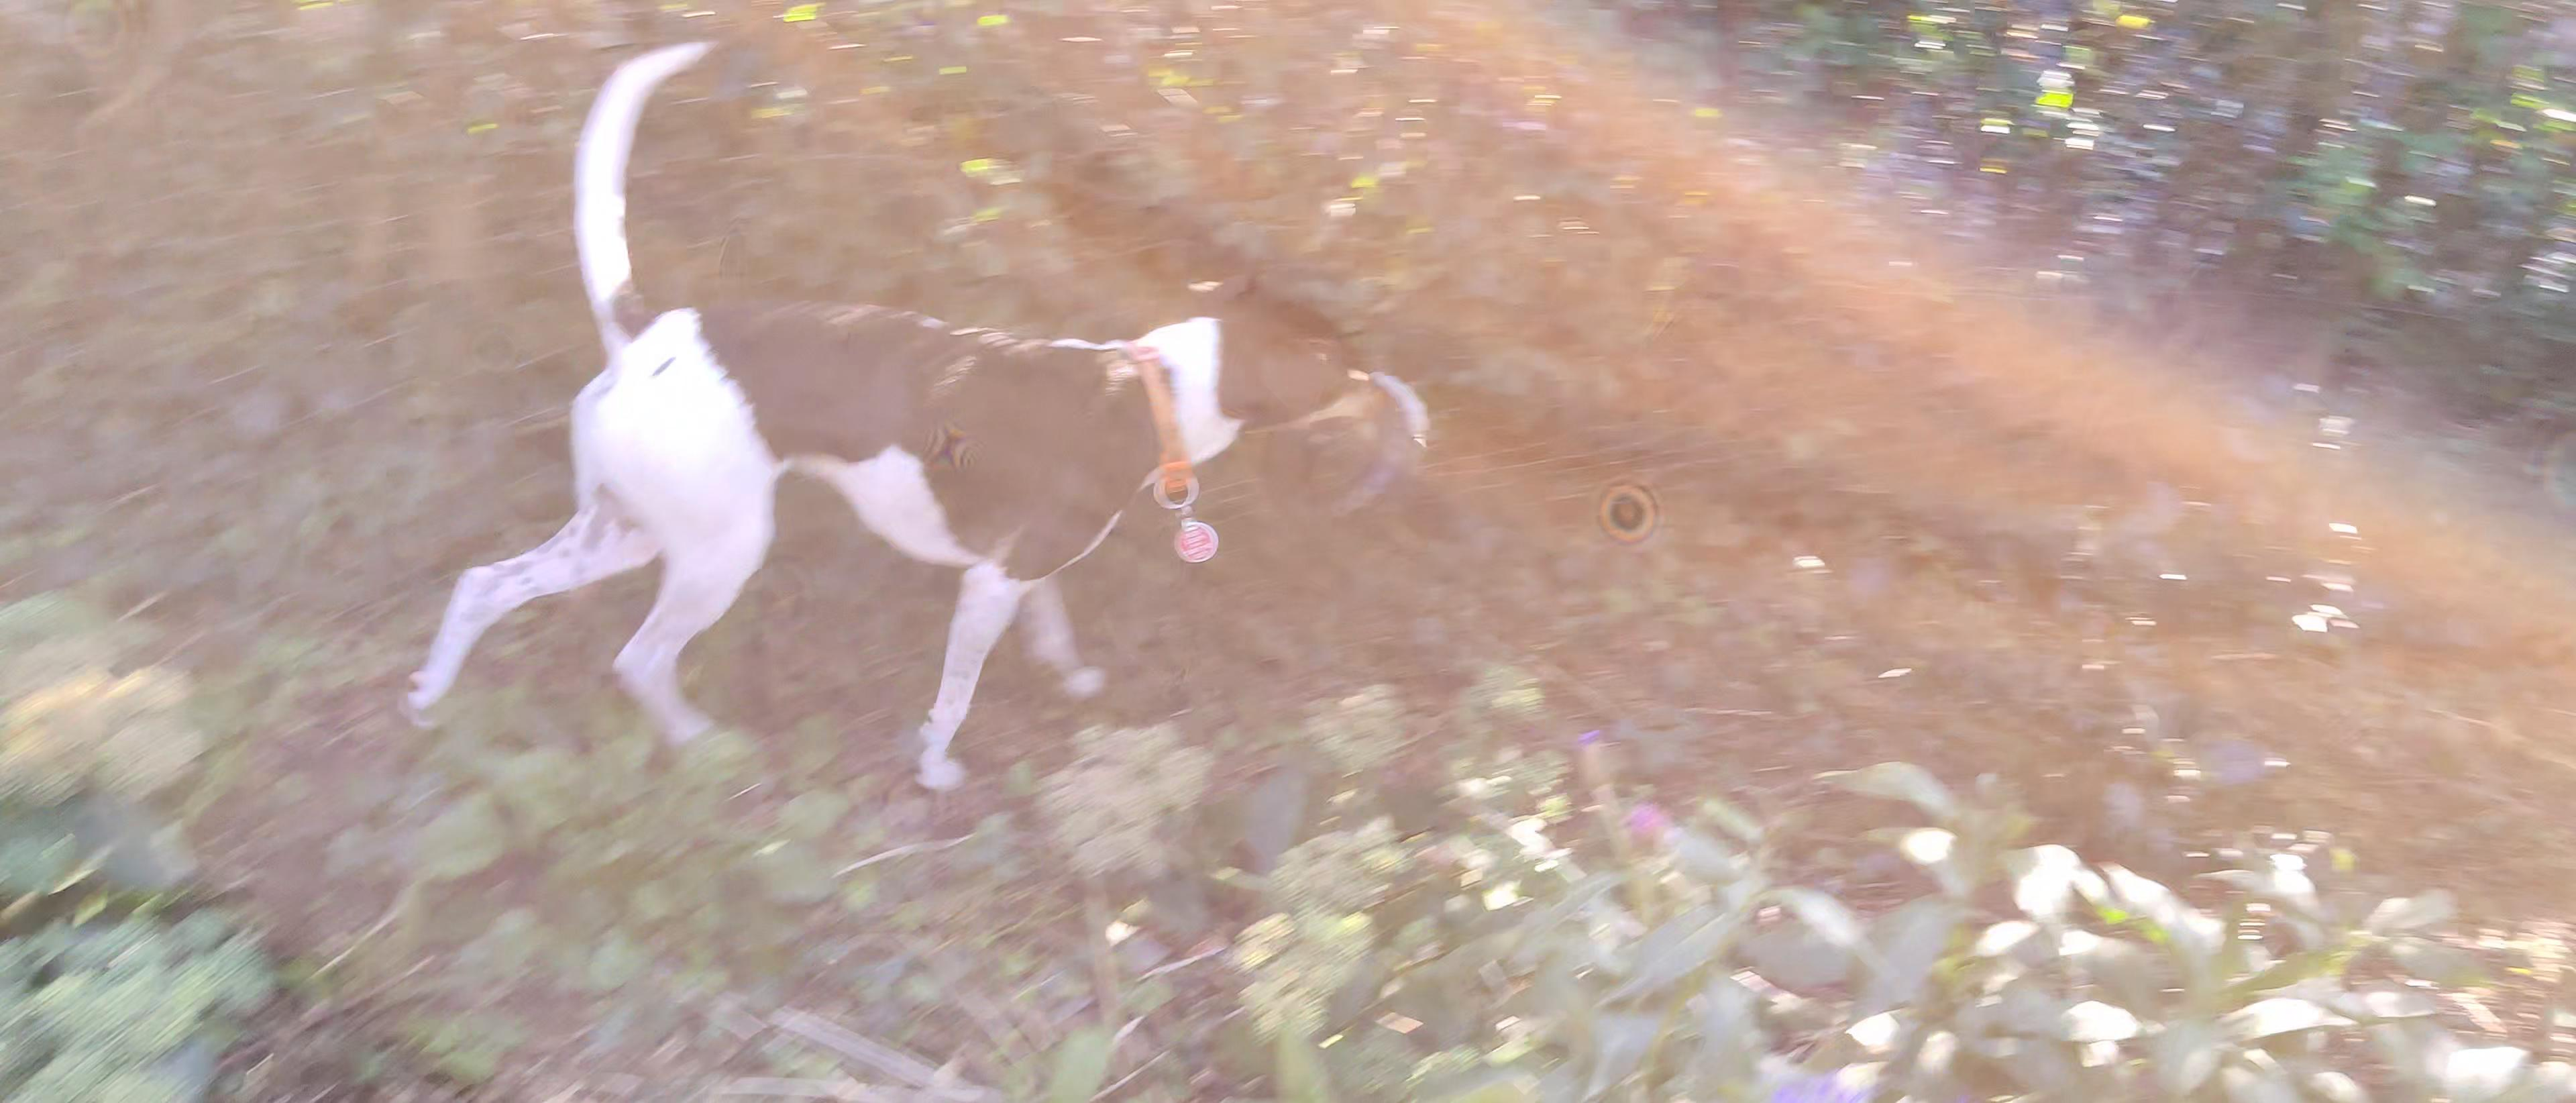Dog: (401, 35, 1390, 796)
